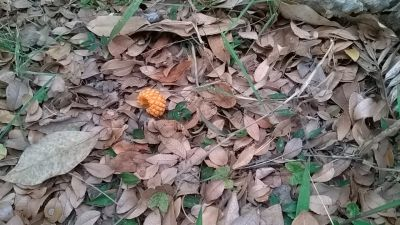eggs: (136, 85, 168, 119)
